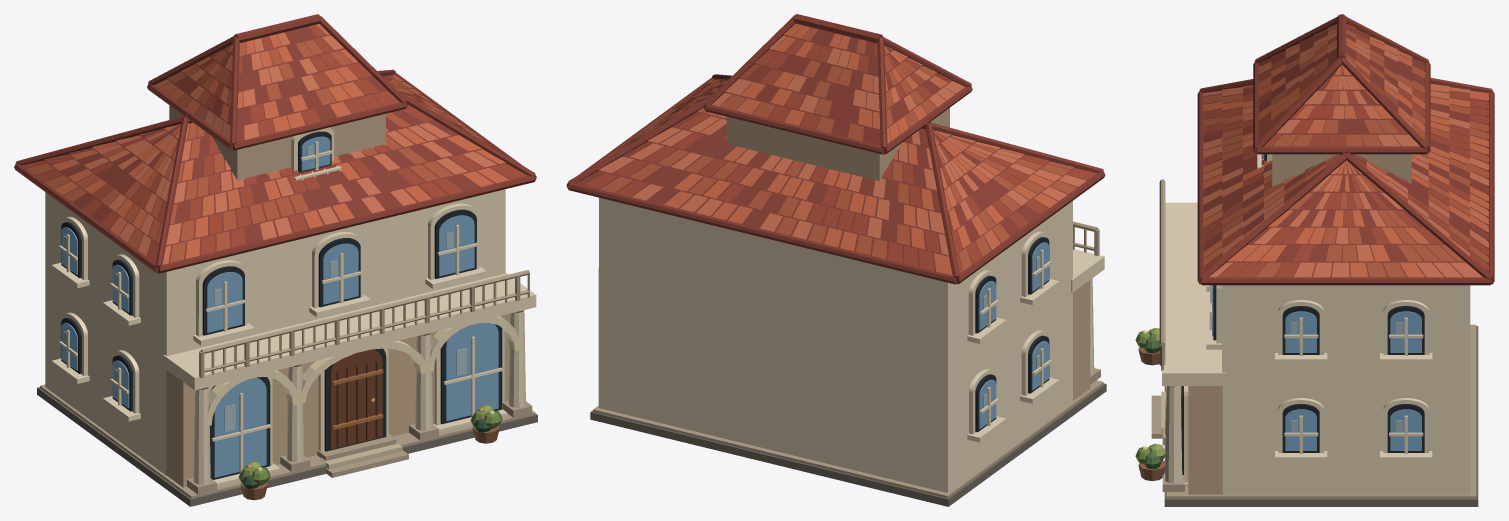
The model's file is moradia-nivel-8.glb.
3 views of the same model, side by side, from view 1: azimuth 30°, elevation 25°; view 2: azimuth 150°, elevation 25°; view 3: azimuth 270°, elevation 25° (orthographic). The views are drawn at different scales.
Visible parts, largest first — view 1: Moradia 08 #e6d7ba, Moradia 08 #853e33, Moradia 08 #567185, Moradia 08 #b4a38a, Moradia 08 #c06b4f, Moradia 08 #9b4735, Moradia 08 #bf6243, Moradia 08 #a8563c, Moradia 08 #c3a989, Moradia 08 #252c32, Moradia 08 #70432c, Moradia 08 #c0a789 (+7 smaller); view 2: Moradia 08 #e6d7ba, Moradia 08 #853e33, Moradia 08 #bf6243, Moradia 08 #c06b4f, Moradia 08 #9b4735, Moradia 08 #a8563c, Moradia 08 #c0a789, Moradia 08 #746c62, Moradia 08 #b4a38a, Moradia 08 #567185, Moradia 08 #c3a989, Moradia 08 #252c32; view 3: Moradia 08 #e6d7ba, Moradia 08 #853e33, Moradia 08 #c06b4f, Moradia 08 #9b4735, Moradia 08 #a8563c, Moradia 08 #bf6243, Moradia 08 #b4a38a, Moradia 08 #567185, Moradia 08 #c3a989, Moradia 08 #746c62, Moradia 08 #252c32, Moradia 08 #c0a789 (+2 smaller).
Part boxes in pixels (x1,y1,x2,y2): Moradia 08 #e6d7ba: (45,127,536,486); Moradia 08 #853e33: (14,14,536,273); Moradia 08 #567185: (61,136,498,477); Moradia 08 #b4a38a: (40,269,535,498); Moradia 08 #c06b4f: (84,32,496,264); Moradia 08 #9b4735: (22,24,527,262); Moradia 08 #bf6243: (52,24,509,258); Moradia 08 #a8563c: (26,39,501,262); Moradia 08 #c3a989: (166,313,510,487); Moradia 08 #252c32: (61,131,502,479); Moradia 08 #70432c: (330,349,382,449); Moradia 08 #c0a789: (169,105,523,389); Moradia 08 #e6d7ba: (598,197,1104,492); Moradia 08 #853e33: (566,14,1105,284); Moradia 08 #bf6243: (605,23,1057,275); Moradia 08 #c06b4f: (598,35,1086,255); Moradia 08 #9b4735: (584,39,1096,273); Moradia 08 #a8563c: (600,27,1076,270); Moradia 08 #c0a789: (726,108,949,181); Moradia 08 #746c62: (590,383,1106,506); Moradia 08 #b4a38a: (593,221,1103,498); Moradia 08 #567185: (979,242,1048,428); Moradia 08 #c3a989: (1073,280,1090,400); Moradia 08 #252c32: (975,237,1049,432); Moradia 08 #e6d7ba: (1162,154,1470,495); Moradia 08 #853e33: (1197,14,1494,285); Moradia 08 #c06b4f: (1203,32,1488,277); Moradia 08 #9b4735: (1203,23,1488,277); Moradia 08 #a8563c: (1203,24,1488,277); Moradia 08 #bf6243: (1203,28,1488,277); Moradia 08 #b4a38a: (1151,179,1476,498); Moradia 08 #567185: (1180,154,1421,450); Moradia 08 #c3a989: (1188,386,1222,494); Moradia 08 #746c62: (1164,326,1478,506); Moradia 08 #252c32: (1181,154,1424,474); Moradia 08 #c0a789: (1172,154,1411,386).
Size of the model in its own units: 8.43 by 7.95 by 6.71.
